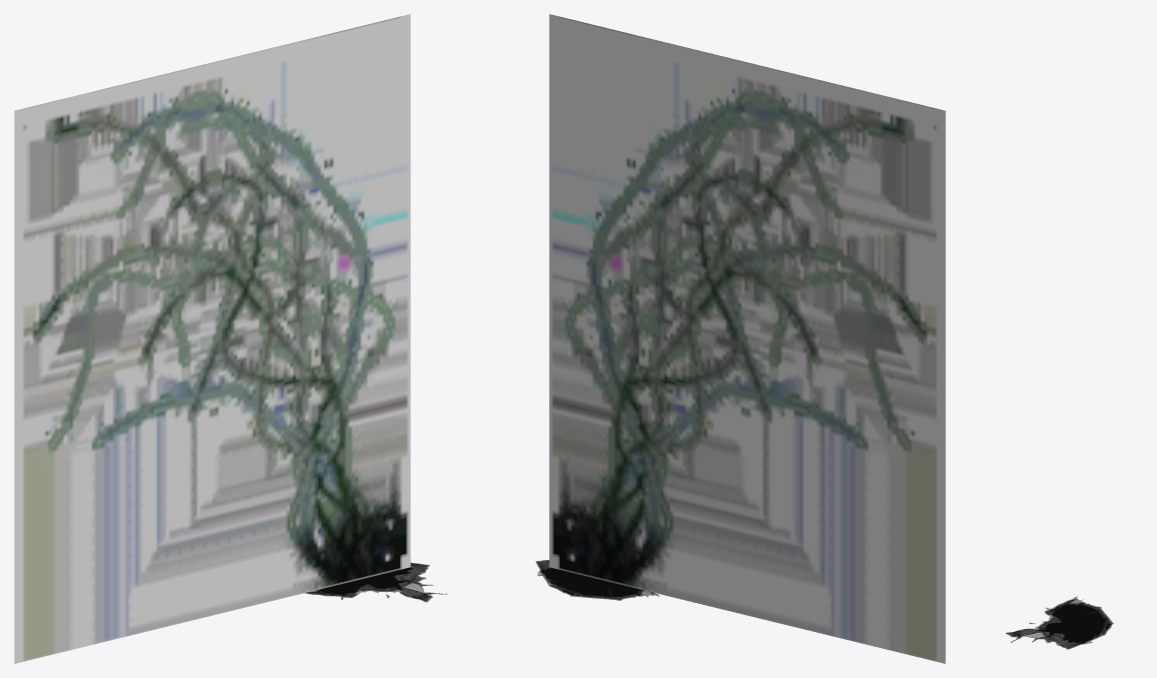
File: shadow_model.fbx
3 renders of one model, left to right at view 1: azimuth 30°, elevation 25°; view 2: azimuth 150°, elevation 25°; view 3: azimuth 270°, elevation 25°, orthographic. The views are drawn at different scales.
Parts seen in each view (by area): view 1: mesh_1, mesh_0; view 2: mesh_1, mesh_0; view 3: mesh_0.
Boxes of the visible parts, x1,y1,x2,y2 form: mesh_1: (14,14,410,663); mesh_0: (305,562,447,602); mesh_1: (549,14,945,663); mesh_0: (535,560,659,600); mesh_0: (1005,596,1113,649).
Bounding box in the file's own units: 33.89 × 40 × 13.14.
2 materials, 2 textured.
